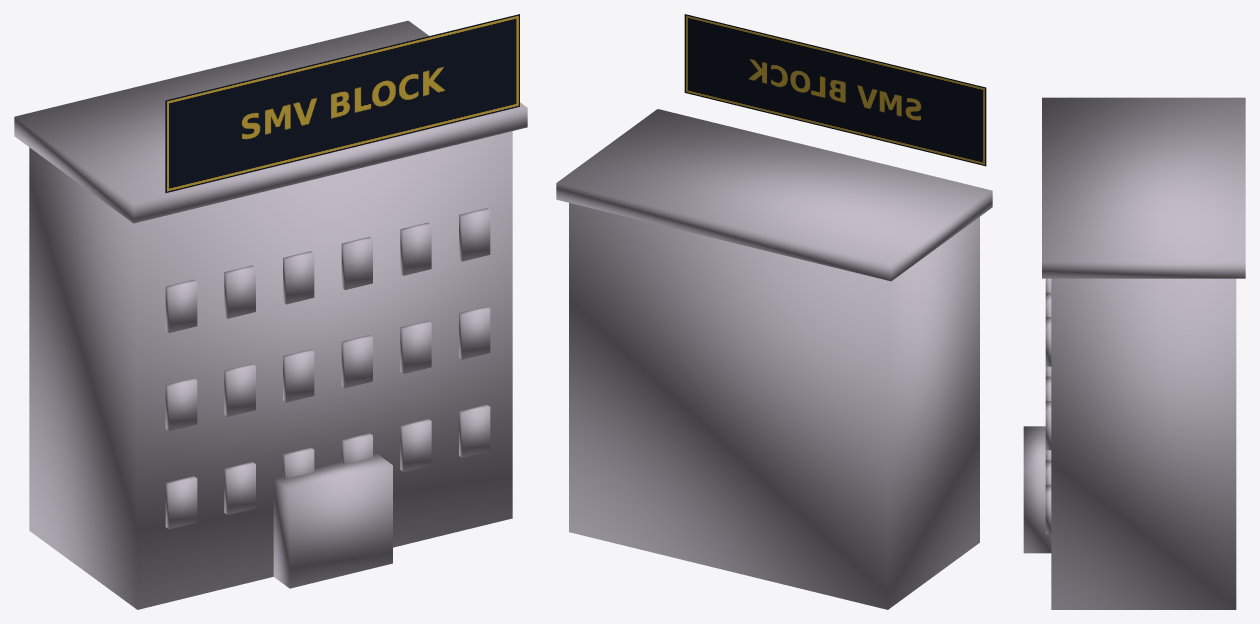
Rendered from smv-block.glb.
The picture shows the model from 3 angles, left to right: view 1: azimuth 30°, elevation 25°; view 2: azimuth 150°, elevation 25°; view 3: azimuth 270°, elevation 25°; orthographic projection. The views are drawn at different scales.
Parts seen in each view (by area): view 1: SMVBlock, Sign; view 2: SMVBlock, Sign; view 3: SMVBlock.
Boxes of the visible parts, box(x1,y1,x2,y2) form: SMVBlock: box(14, 20, 527, 609); Sign: box(165, 14, 519, 193); SMVBlock: box(556, 109, 992, 609); Sign: box(684, 14, 986, 166); SMVBlock: box(1023, 97, 1245, 609).
Bounding box in the file's own units: 8.4 × 10.59 × 4.85.
1 material, 1 textured.
